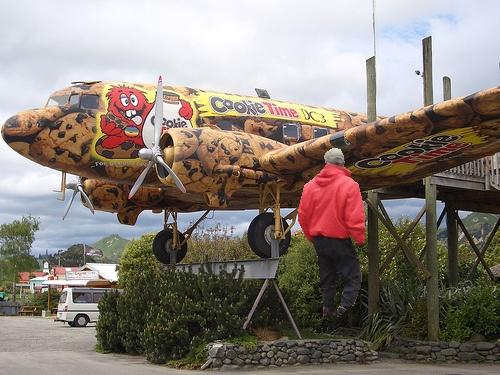tampered: (299, 149, 365, 321)
